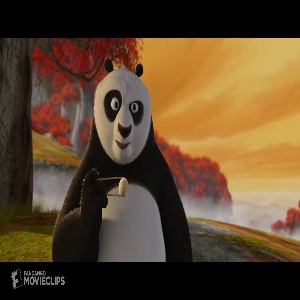po: (51, 54, 194, 261)
